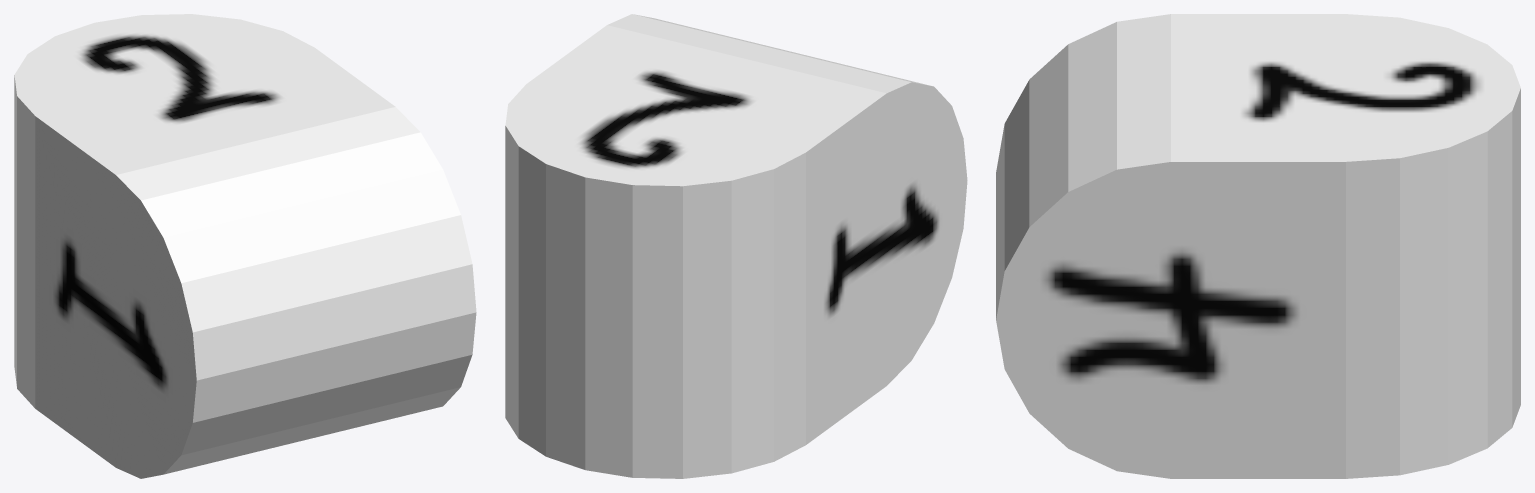
The picture shows the model from 3 angles, left to right: view 1: azimuth 30°, elevation 25°; view 2: azimuth 150°, elevation 25°; view 3: azimuth 270°, elevation 25°; orthographic projection. The views are drawn at different scales.
Visible parts, largest first — view 1: Dice; view 2: Dice; view 3: Dice.
Part boxes in pixels (x1,y1,x2,y2): Dice: (14,14,476,478); Dice: (505,14,967,478); Dice: (996,14,1520,478).
Size of the model in its own units: 2 by 2 by 3.
1 material, 1 textured.
